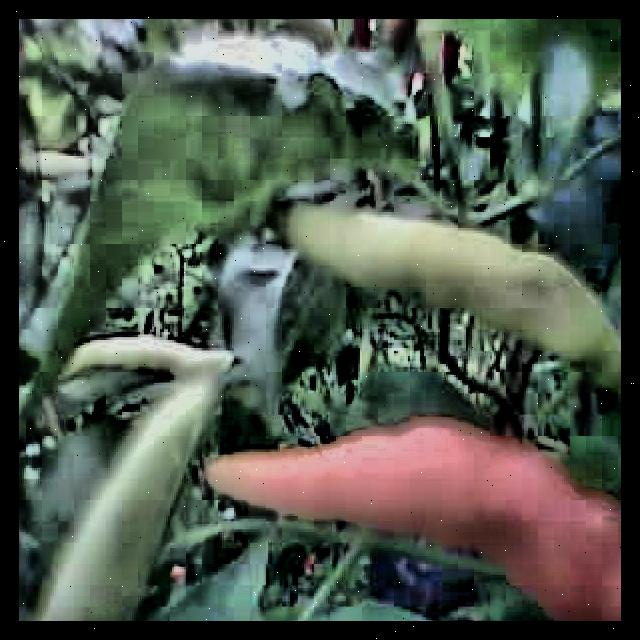Cabai: (218, 421, 621, 621)
